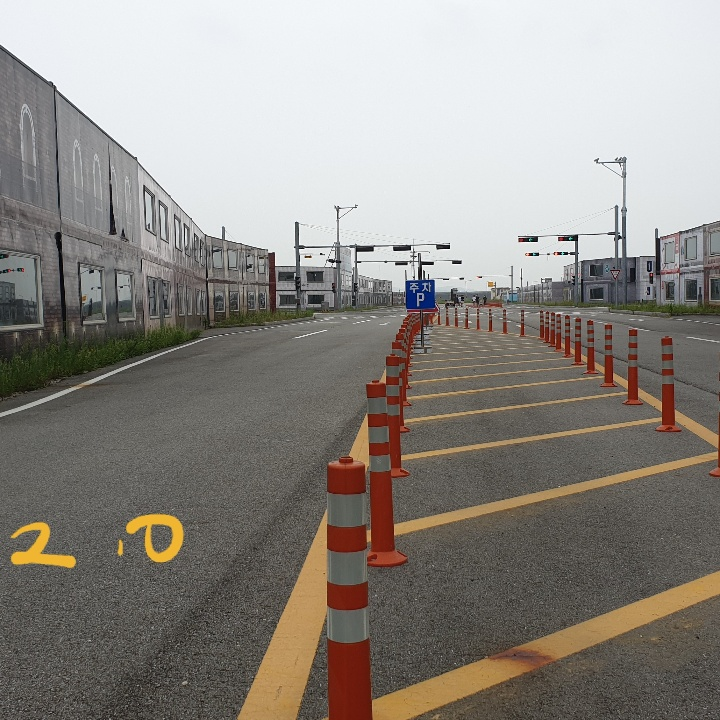parking: (413, 287, 427, 307)
